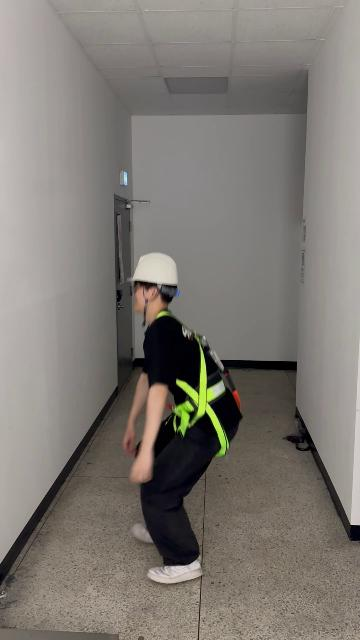helmet_worn: (128, 251, 181, 286)
shoe_not_worn: (146, 557, 202, 584), (131, 523, 155, 545)
vest_worn: (139, 317, 237, 459)
